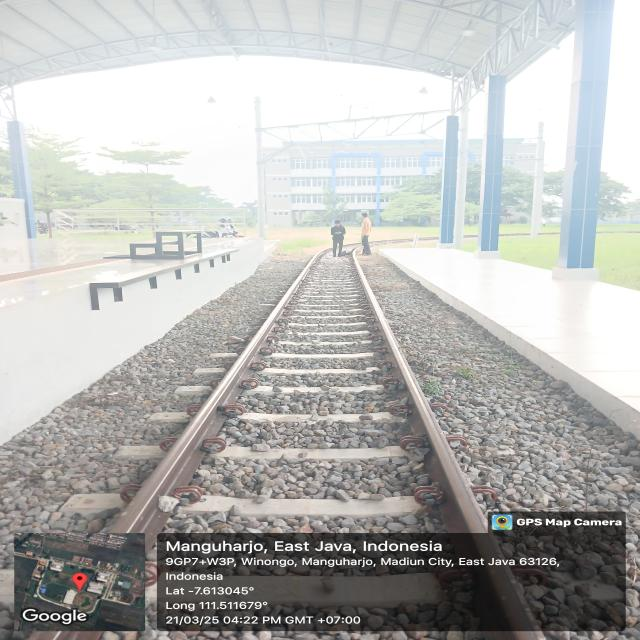rail-detection: (110, 260, 314, 547), (353, 256, 486, 533), (463, 502, 472, 510)
